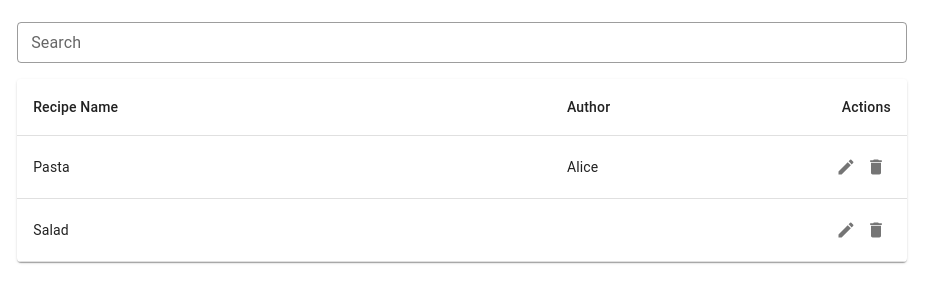
Test: RecipeList › search › filters recipes by title after debounce
Type "pasta" into the field labelled "Search" at (462, 42), box top-left (17, 22), bottom-right (907, 63)
Wait 200 ms
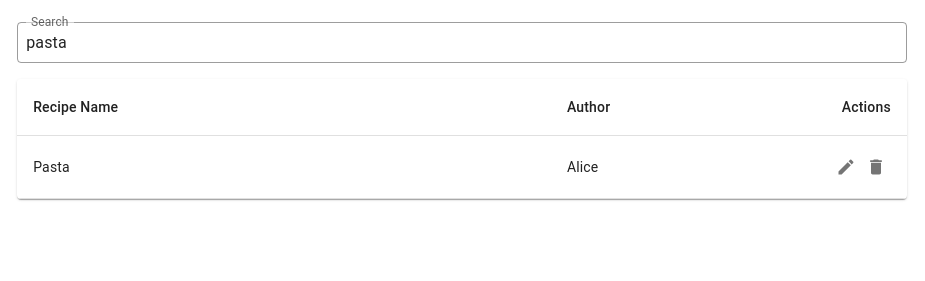
Check: the text "Pasta" is shown, box top-left (17, 136), bottom-right (551, 199)
Check: the text "Salad" is gone
